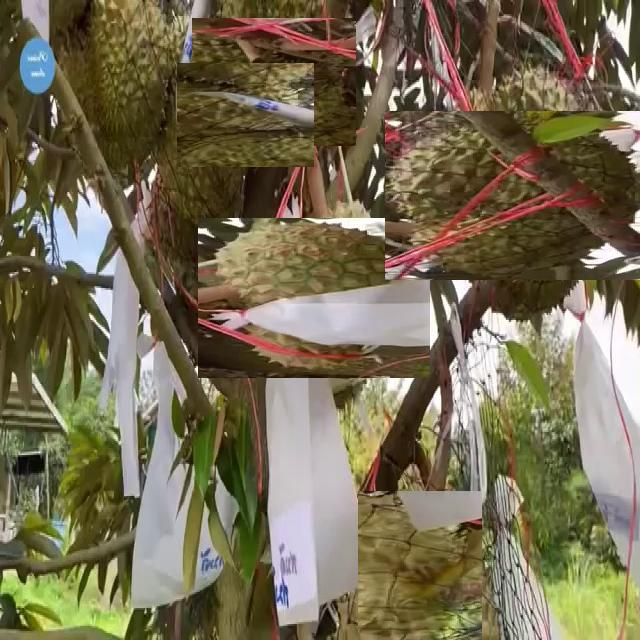durian: (410, 86, 629, 306), (215, 200, 412, 397), (116, 31, 283, 198), (201, 9, 347, 156), (52, 0, 177, 169), (347, 501, 494, 640)
